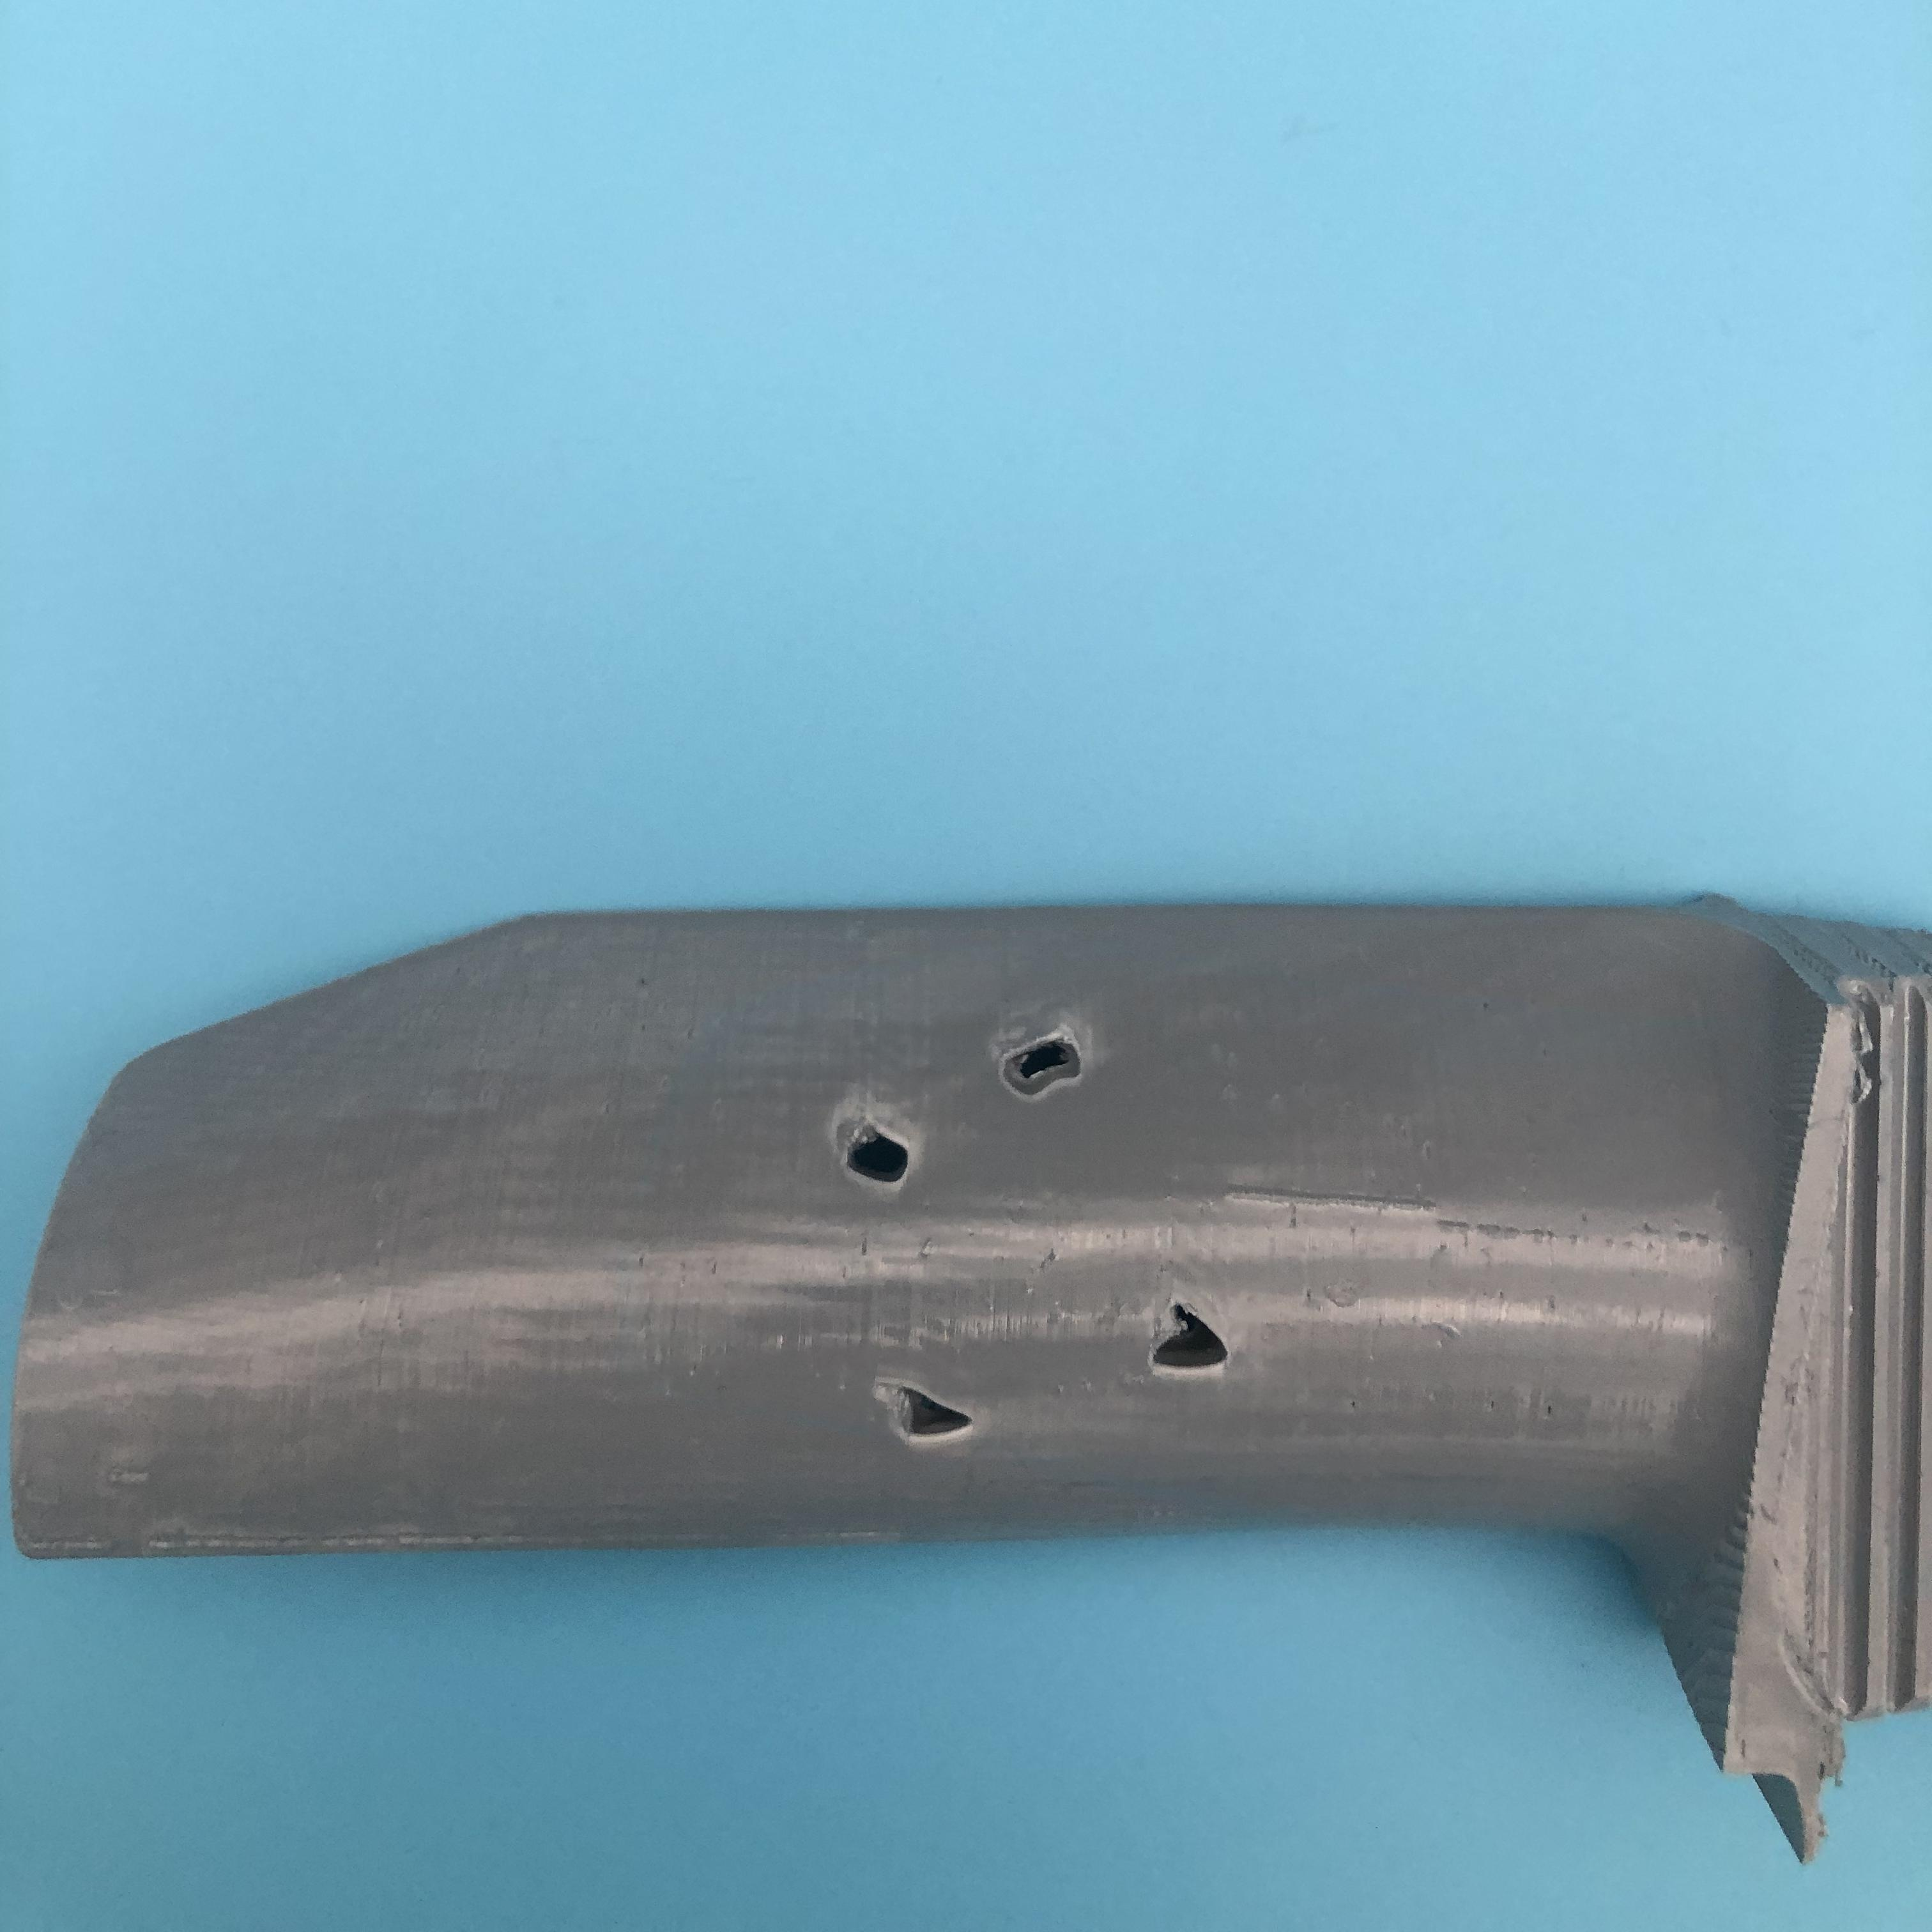breakdown: (851, 1017, 1228, 1445)
